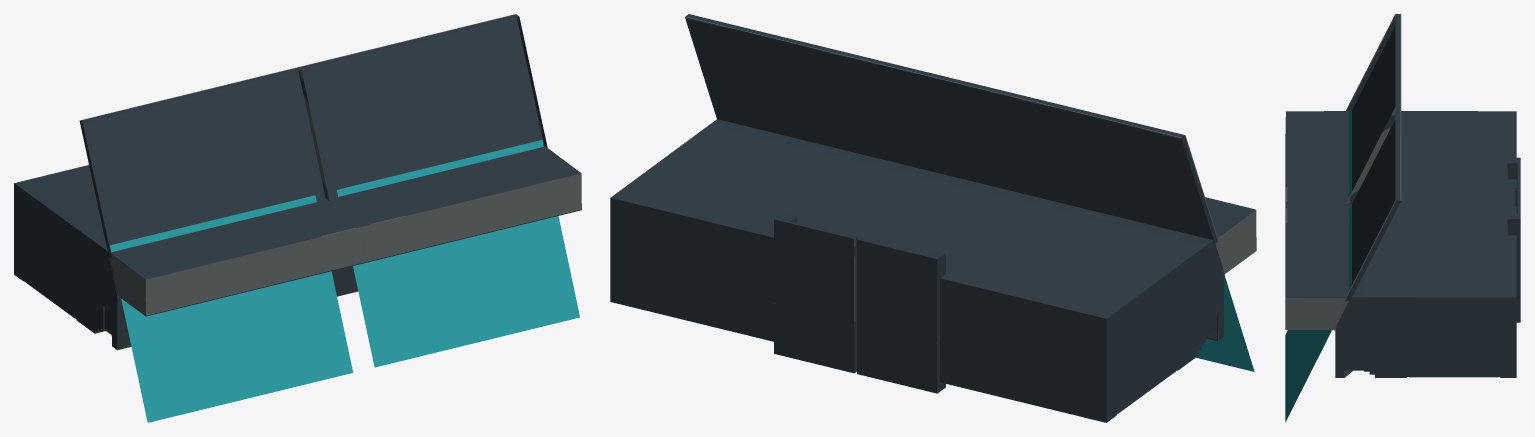
The model's file is escenario.fbx.
The picture shows the model from 3 angles, left to right: view 1: azimuth 30°, elevation 25°; view 2: azimuth 150°, elevation 25°; view 3: azimuth 270°, elevation 25°; orthographic projection. The views are drawn at different scales.
Visible parts, largest first — view 1: Plane; view 2: Plane; view 3: Plane.
Part boxes in pixels (x1,y1,x2,y2): Plane: [14, 14, 581, 422]; Plane: [610, 14, 1256, 422]; Plane: [1285, 14, 1520, 422].
Size of the model in its own units: 554 by 309 by 295.
Materials: 6 (5 with a texture image).
